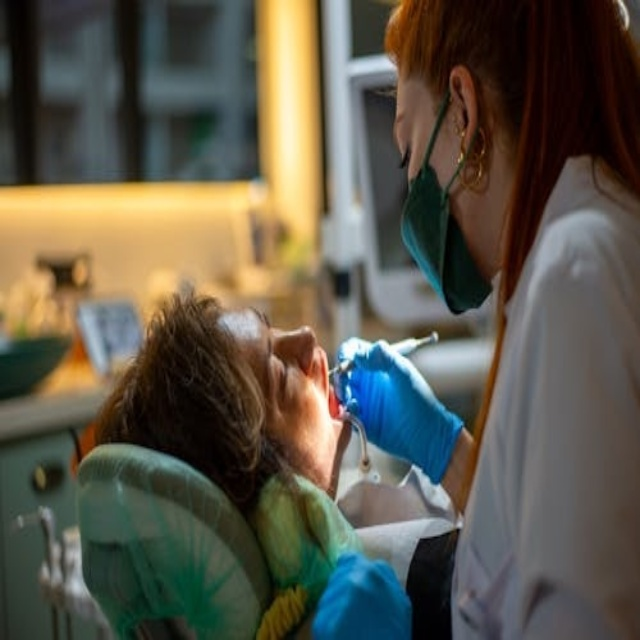Guantes: (338, 337, 466, 484), (309, 549, 415, 640)
Mascara: (402, 85, 492, 315)
Sin_gafas: (243, 295, 296, 427), (381, 86, 422, 176)
Sin_mascara: (315, 339, 348, 429)
